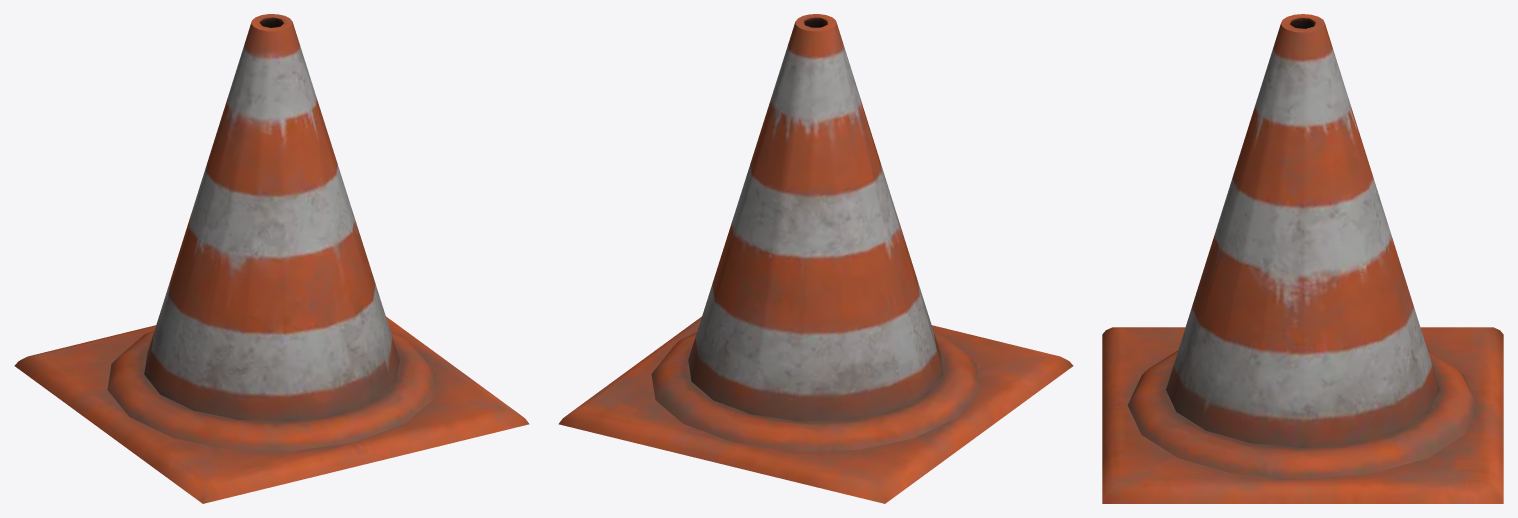
Rendered from road_cone.glb.
3 views of the same model, side by side, from view 1: azimuth 30°, elevation 25°; view 2: azimuth 150°, elevation 25°; view 3: azimuth 270°, elevation 25° (orthographic). The views are drawn at different scales.
Parts seen in each view (by area): view 1: Cone_Low.004__0; view 2: Cone_Low.004__0; view 3: Cone_Low.004__0.
Boxes of the visible parts, box(x1,y1,x2,y2) form: Cone_Low.004__0: box(14, 14, 529, 503); Cone_Low.004__0: box(558, 14, 1073, 503); Cone_Low.004__0: box(1102, 14, 1503, 503).
Bounding box in the file's own units: 0.3335 × 0.3631 × 0.3335.
1 material, 1 textured.
